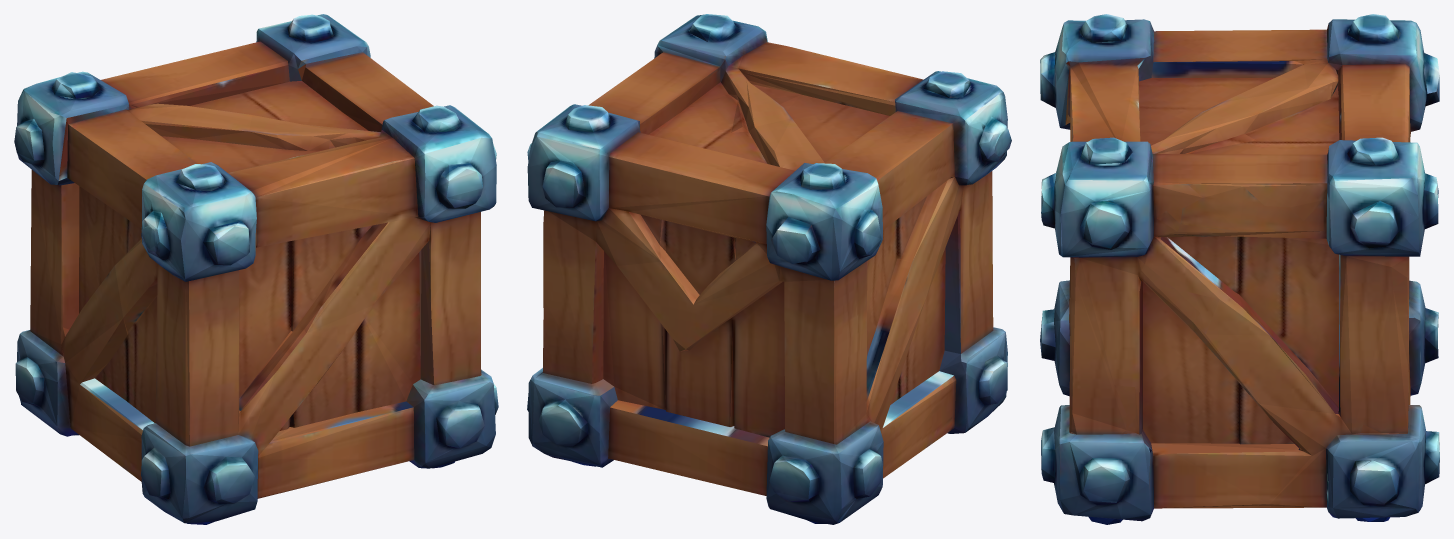
File: crate.glb
3 renders of one model, left to right at view 1: azimuth 30°, elevation 25°; view 2: azimuth 150°, elevation 25°; view 3: azimuth 270°, elevation 25°, orthographic. The views are drawn at different scales.
Parts seen in each view (by area): view 1: tmp8dix467v.ply; view 2: tmp8dix467v.ply; view 3: tmp8dix467v.ply.
Part boxes in pixels (<box>): tmp8dix467v.ply: <box>14,14,498,524</box>; tmp8dix467v.ply: <box>527,14,1011,524</box>; tmp8dix467v.ply: <box>1040,14,1439,524</box>.
Bounding box in the file's own units: 2 × 1.95 × 1.9.
1 material, 1 textured.
